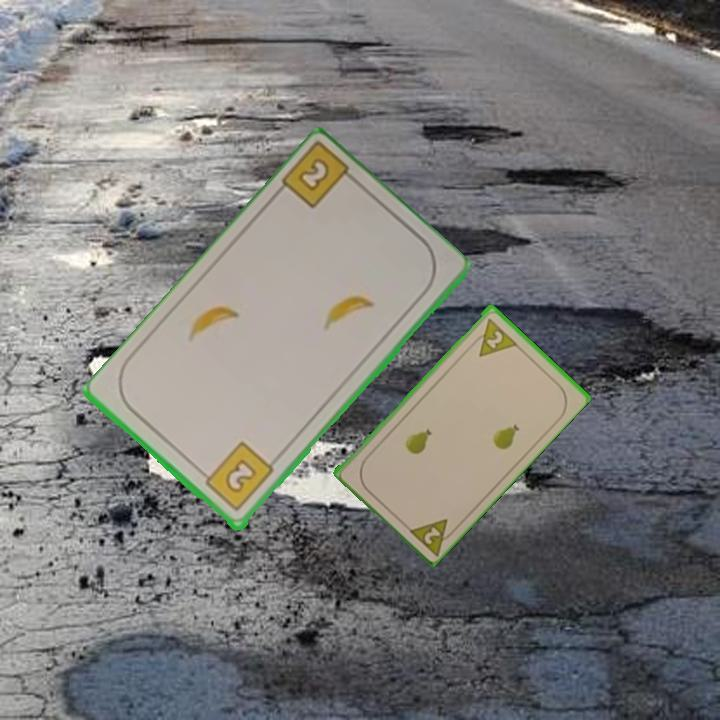2b: (277, 141, 363, 213), (196, 439, 277, 515)
2p: (404, 515, 460, 558), (483, 327, 506, 351)
